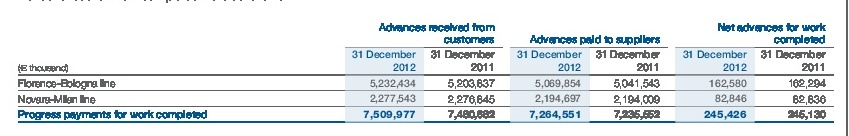table: (0, 0, 849, 136)
